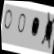correct: (28, 14, 41, 40)
no answer: (15, 11, 28, 37)
not correct: (38, 10, 54, 52)
